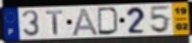2: (125, 5, 149, 36)
3: (21, 9, 41, 38)
5: (148, 4, 172, 34)
A: (70, 7, 100, 37)
D: (97, 7, 121, 36)
T: (45, 9, 64, 36)
